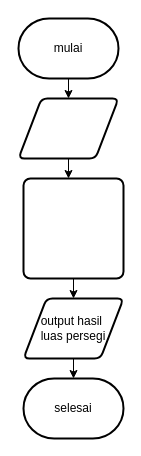
Image size: 141x456. Some labels were removed from this diagram. The centre of each missing label's shape, as x and y in pixels:
L= sisi * sisi: the point at 73,228
masukan sisi: the point at 68,128
